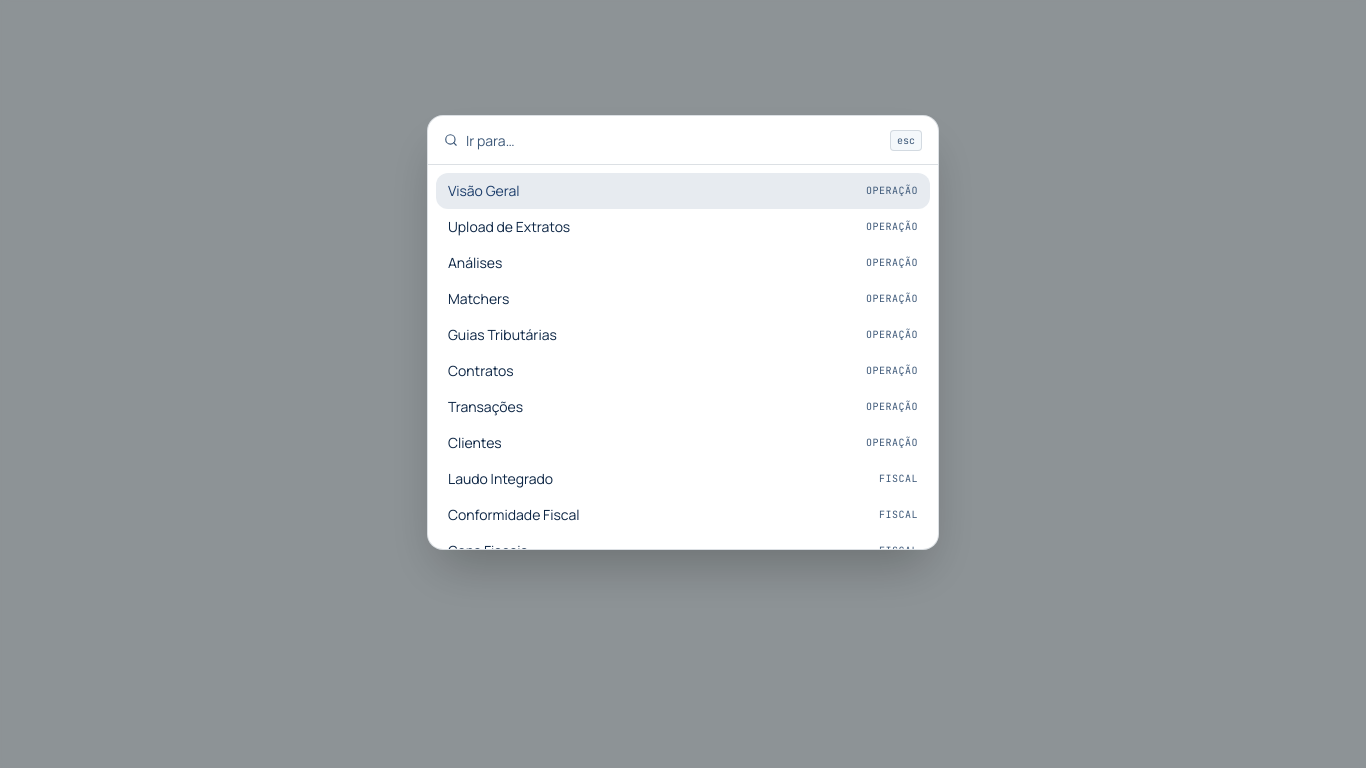
it: CommandPalette › filtra também por grupo (ex.: 'Fiscal')
Type "fiscal" into the field named "Buscar telas".
click(674, 140); type("fiscal")  # box [466,116,882,164]
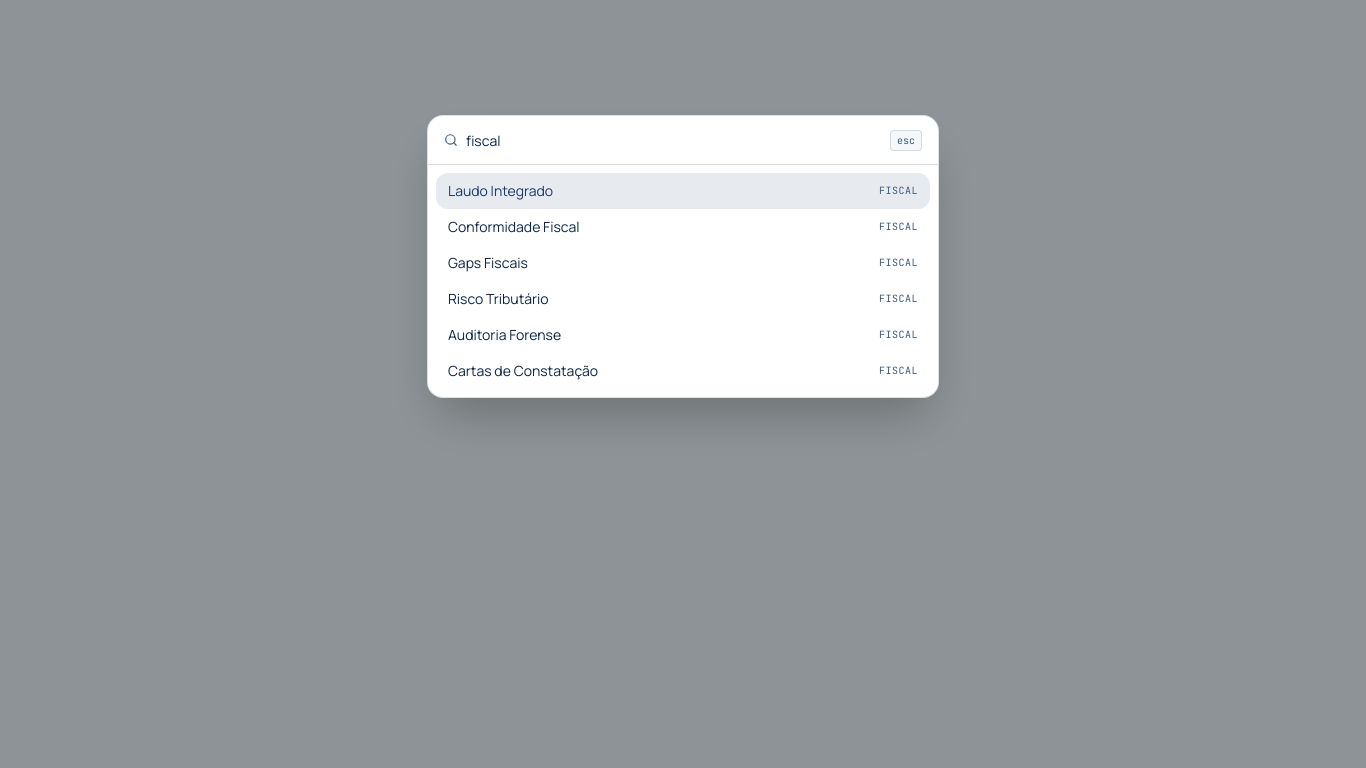
expect the text "Laudo Integrado" is shown: met, box [448,181,553,201]
expect the button "Upload de Extratos" is gone: met
